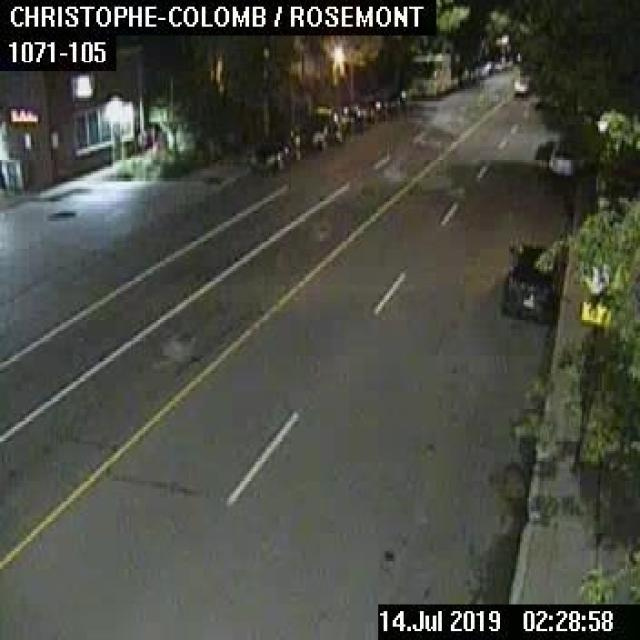vehicle: (499, 238, 566, 320), (247, 129, 299, 171), (303, 107, 341, 150), (411, 51, 448, 95), (533, 138, 569, 173), (513, 74, 527, 94)
